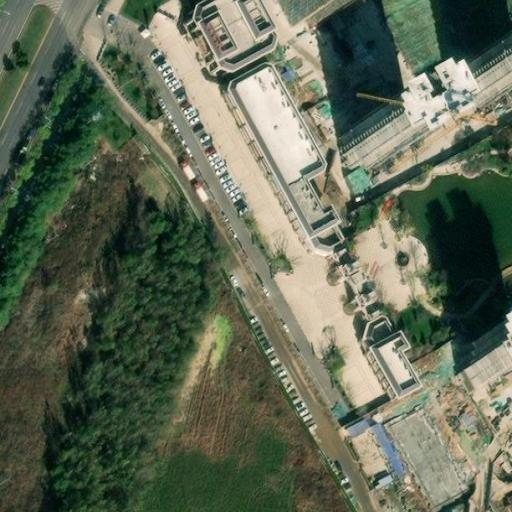building: (224, 62, 345, 251), (383, 399, 470, 510), (342, 101, 423, 168), (364, 313, 420, 398), (452, 36, 512, 108), (462, 326, 512, 391), (368, 421, 409, 480), (289, 0, 360, 26)
